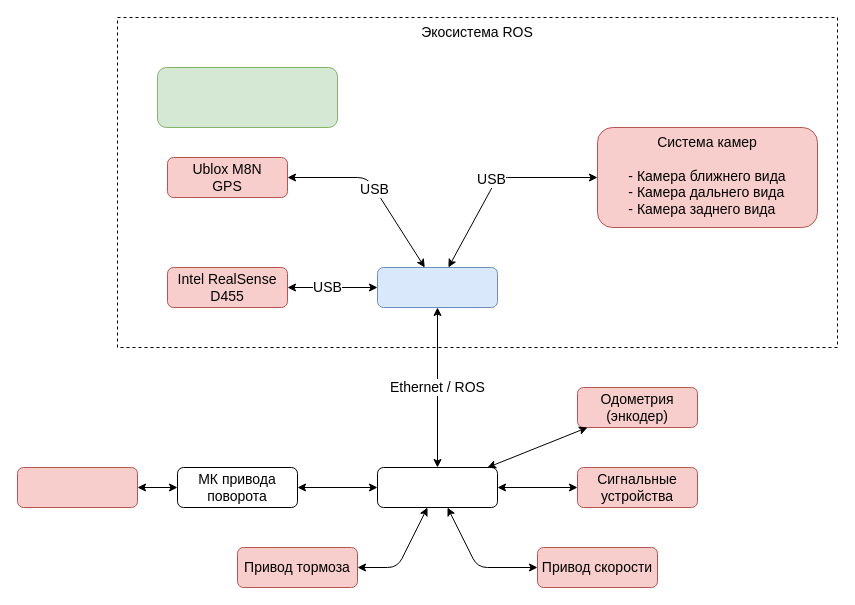
Image size: 855x605. Some labels were removed from this diagram. The centre of each missing label's shape, as x and y in pixels:
"Головной ПК" belongs at point (437, 287).
"Основной МК" belongs at point (437, 487).
"Привод поворота" belongs at point (77, 487).
"Программная обработка данных для системы планирования" belongs at point (247, 97).
